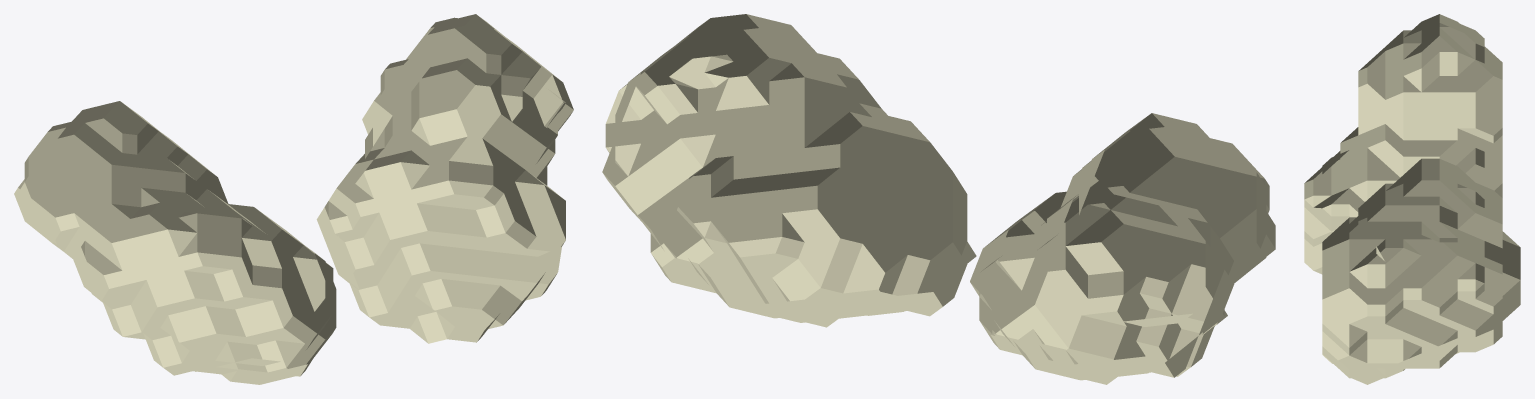
Rendered from region_0053_EmTr__rostral_thalamic_eminence_.glb.
3 views of the same model, side by side, from view 1: azimuth 30°, elevation 25°; view 2: azimuth 150°, elevation 25°; view 3: azimuth 270°, elevation 25° (orthographic). The views are drawn at different scales.
Visible parts, largest first — view 1: world; view 2: world; view 3: world.
Boxes of the visible parts, x1,y1,x2,y2 form: world: (14, 14, 573, 384); world: (602, 14, 1275, 384); world: (1304, 14, 1520, 384).
Bounding box in the file's own units: 0.224 × 0.104 × 0.096.
